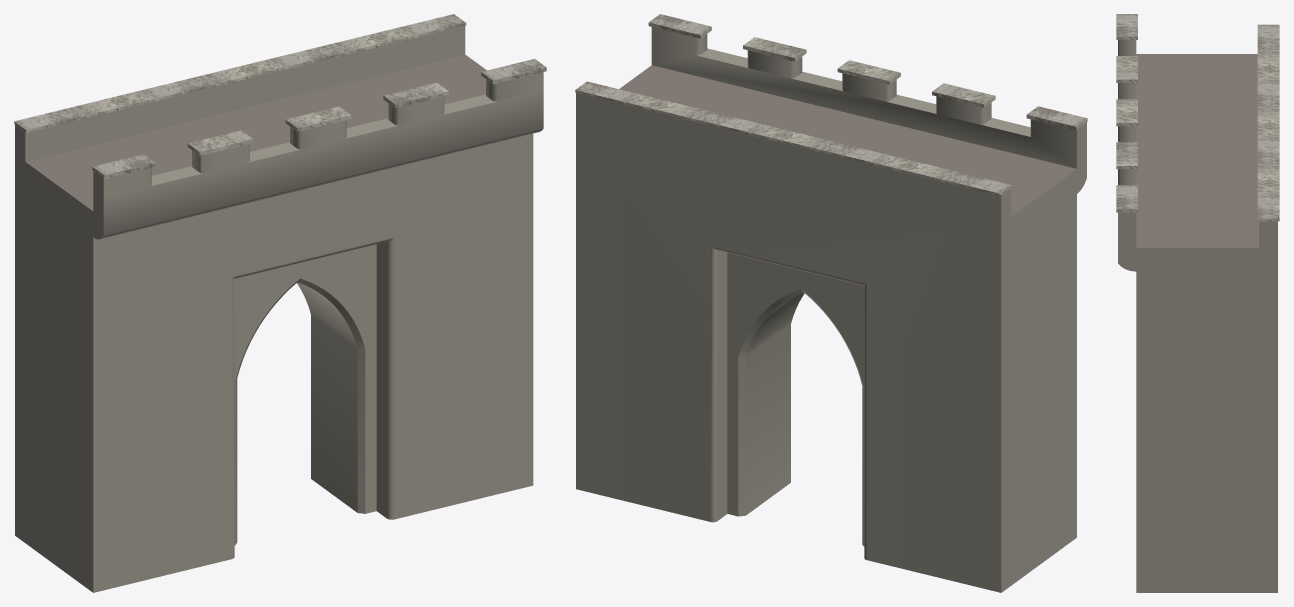
The model's file is Gate_1.fbx.
3 renders of one model, left to right at view 1: azimuth 30°, elevation 25°; view 2: azimuth 150°, elevation 25°; view 3: azimuth 270°, elevation 25°, orthographic. The views are drawn at different scales.
Visible parts, largest first — view 1: Model; view 2: Model; view 3: Model.
Boxes of the visible parts, box(x1,y1,x2,y2) form: Model: box(14, 14, 546, 592); Model: box(575, 14, 1087, 592); Model: box(1116, 14, 1279, 592).
Size of the model in its own units: 27.33 by 25.13 by 9.66.
